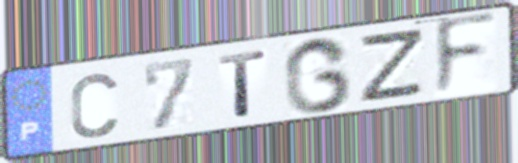7: (141, 55, 196, 134)
C: (67, 71, 121, 142)
F: (432, 9, 500, 102)
G: (281, 34, 354, 116)
T: (216, 48, 270, 119)
Z: (356, 25, 428, 106)
